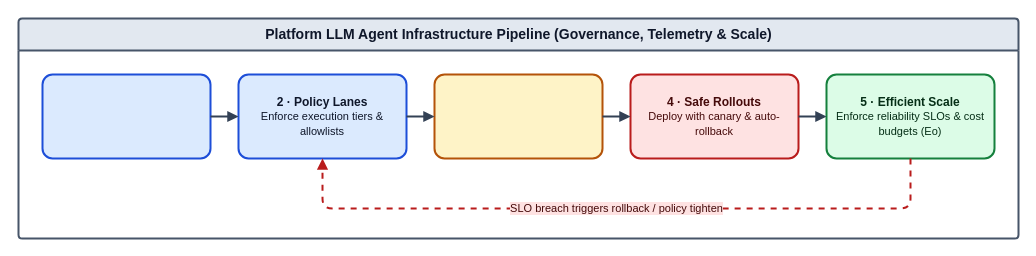
The diagram is 1036 pixels wide and 256 high, and some of its shapes have lost their labels. Each missing label, with the centre of its shape:
1 · Control Boundaries Design control plane & tool isolation: the point at 126,116
3 · Deep Telemetry Instrument traces, audit logs & alerts: the point at 518,116
